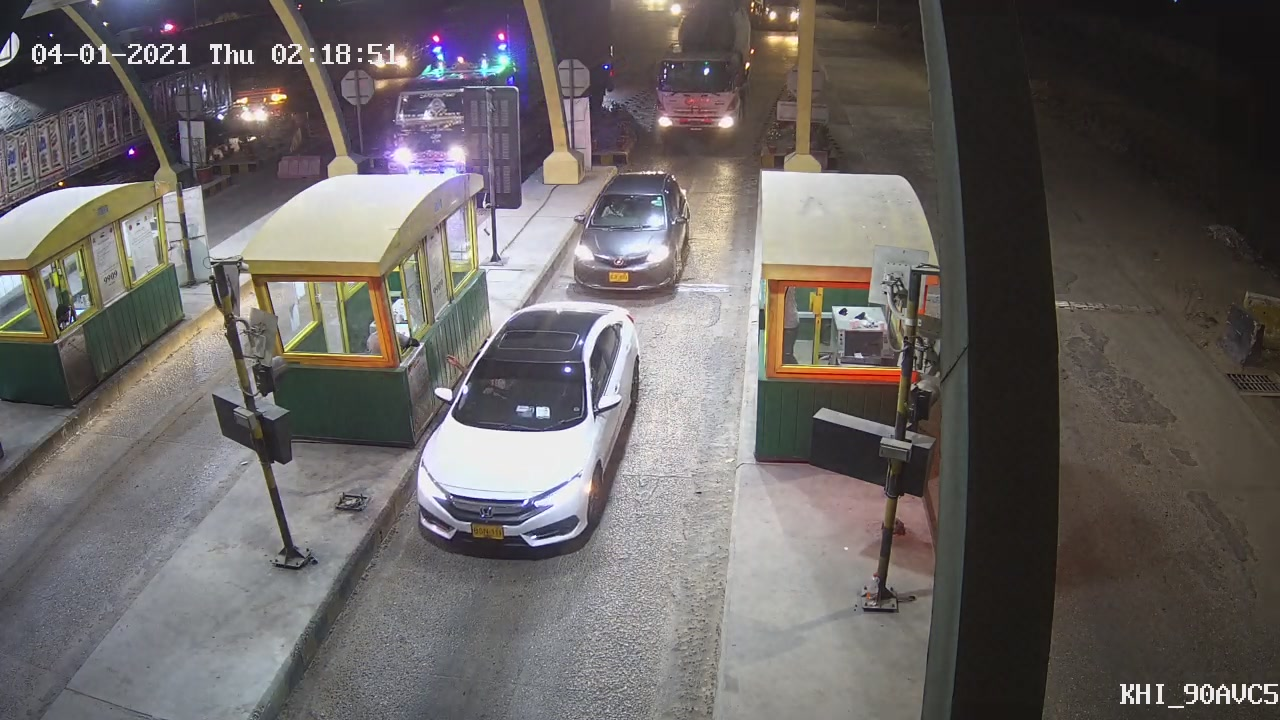F1: (407, 299, 648, 576), (558, 164, 701, 291)
F5: (631, 9, 759, 144)
